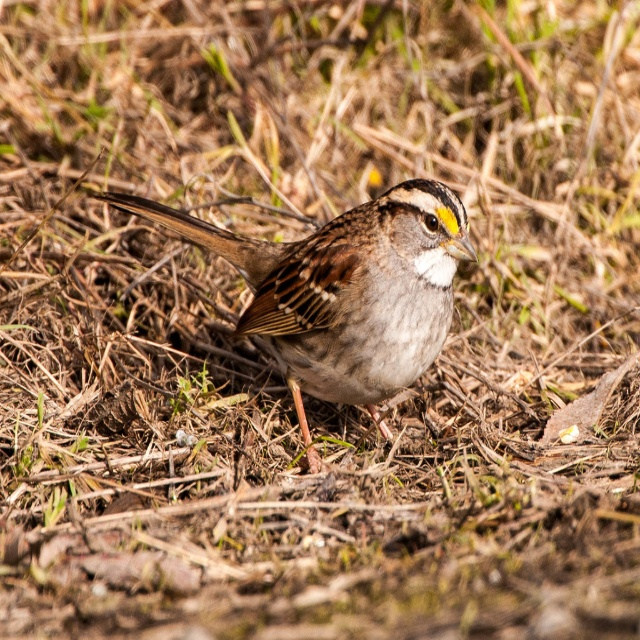Sparrow: (102, 178, 481, 474)
